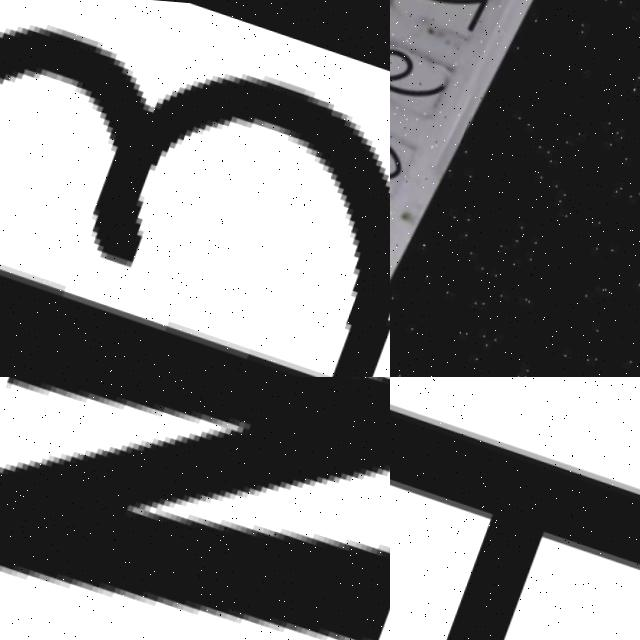0: (390, 98, 436, 205)
6: (390, 20, 475, 129)
7: (390, 0, 511, 48)
A: (390, 377, 640, 640)
B: (0, 17, 390, 377)
W: (0, 377, 390, 640)
